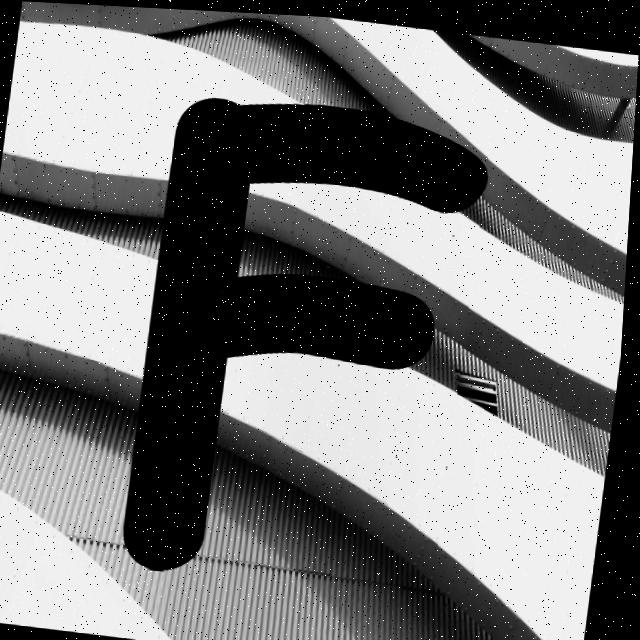F: (130, 96, 488, 568)
